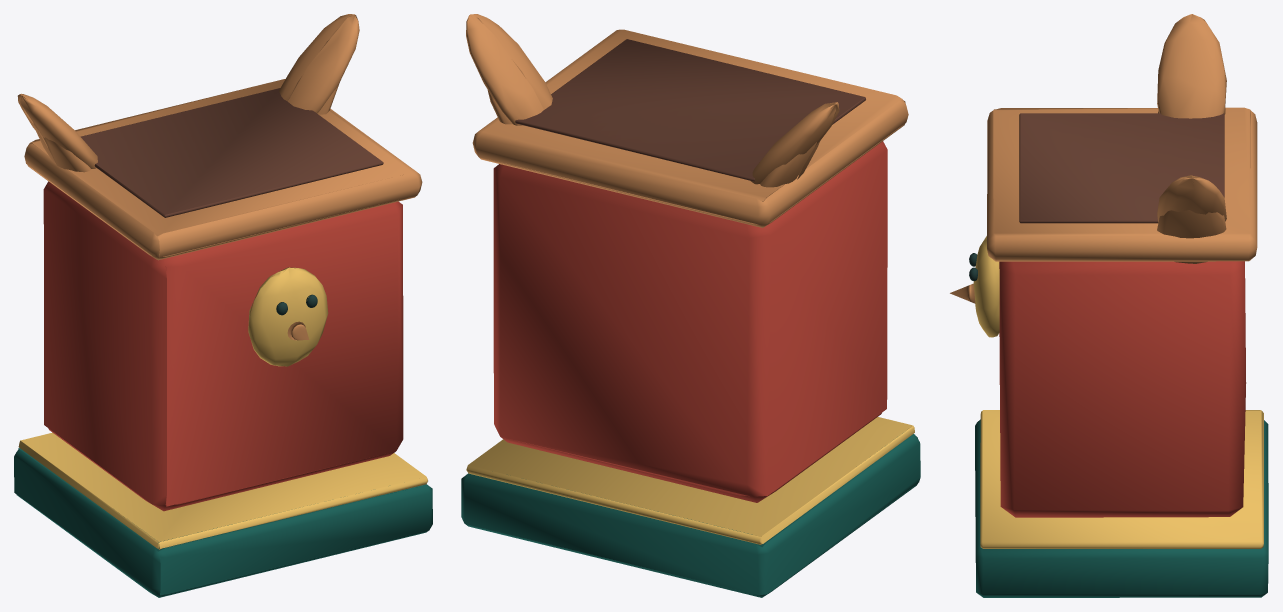
3 renders of one model, left to right at view 1: azimuth 30°, elevation 25°; view 2: azimuth 150°, elevation 25°; view 3: azimuth 270°, elevation 25°, orthographic. The views are drawn at different scales.
Parts seen in each view (by area): view 1: Foundry body, Oil well lip, Oil well, Jade footing, Brass welt; view 2: Foundry body, Oil well lip, Oil well, Jade footing, Brass welt; view 3: Foundry body, Oil well lip, Oil well, Jade footing, Brass welt.
Boxes of the visible parts, <box> form: Foundry body: <box>43,181,403,511</box>; Oil well lip: <box>17,14,422,340</box>; Oil well: <box>80,88,383,217</box>; Jade footing: <box>14,448,432,597</box>; Brass welt: <box>18,267,427,549</box>; Foundry body: <box>493,141,887,502</box>; Oil well lip: <box>466,14,908,227</box>; Oil well: <box>515,39,865,181</box>; Jade footing: <box>461,433,920,597</box>; Brass welt: <box>466,417,914,544</box>; Foundry body: <box>999,261,1246,517</box>; Oil well lip: <box>950,14,1257,303</box>; Oil well: <box>1019,113,1224,223</box>; Jade footing: <box>975,419,1268,597</box>; Brass welt: <box>973,236,1263,548</box>.
Bounding box in the file's own units: 0.9445 × 1.17 × 0.7764.
